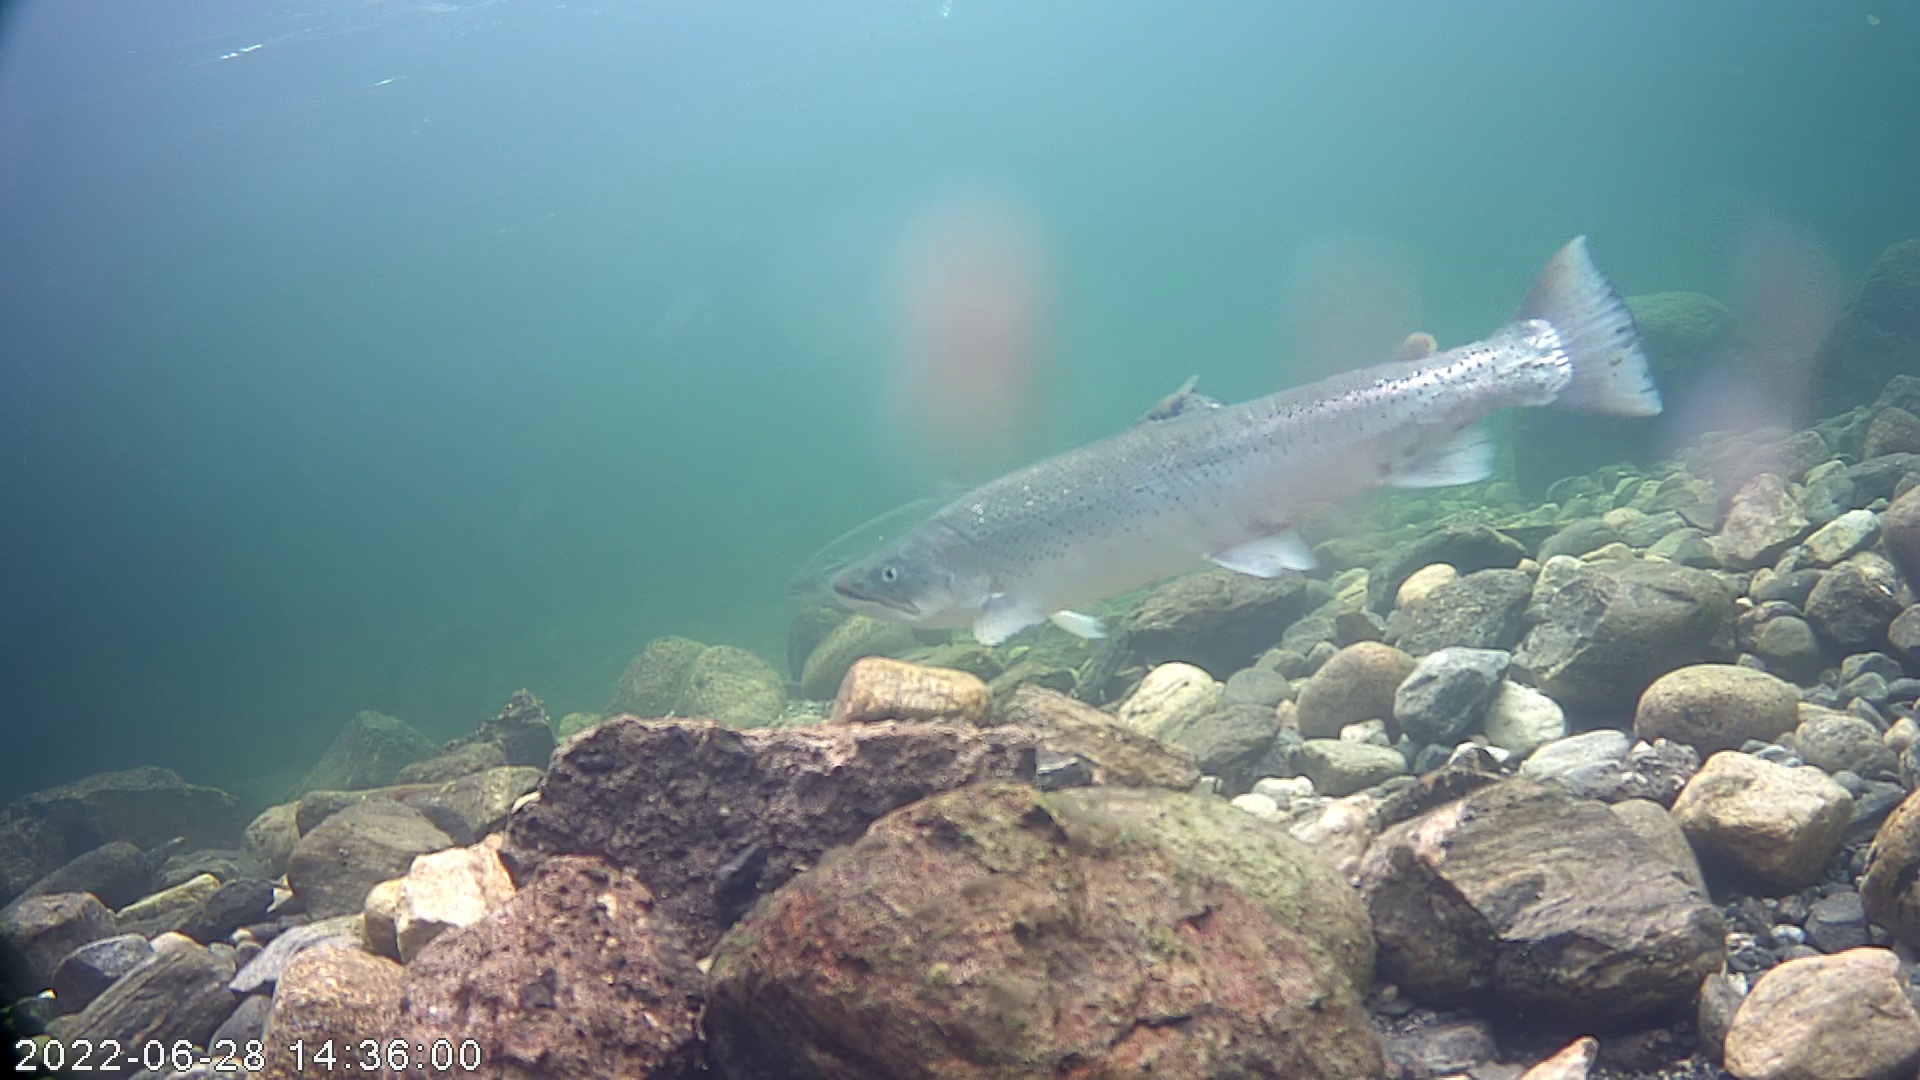salmon: (799, 206, 1680, 662)
